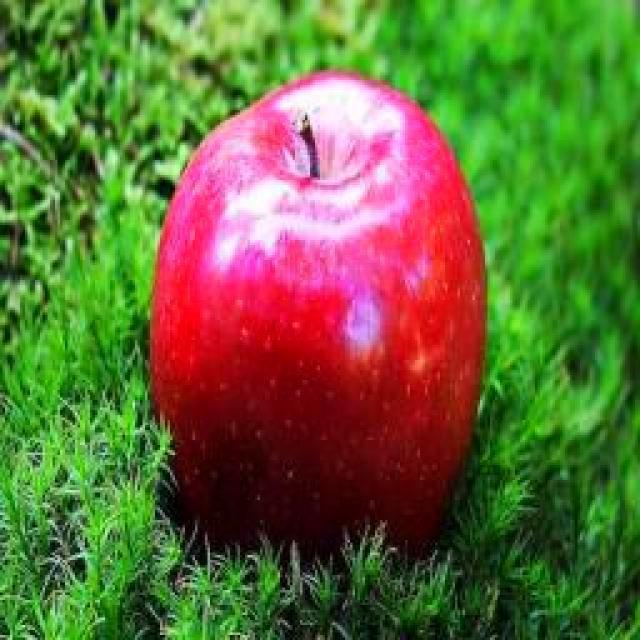Apple: (151, 72, 485, 546)
